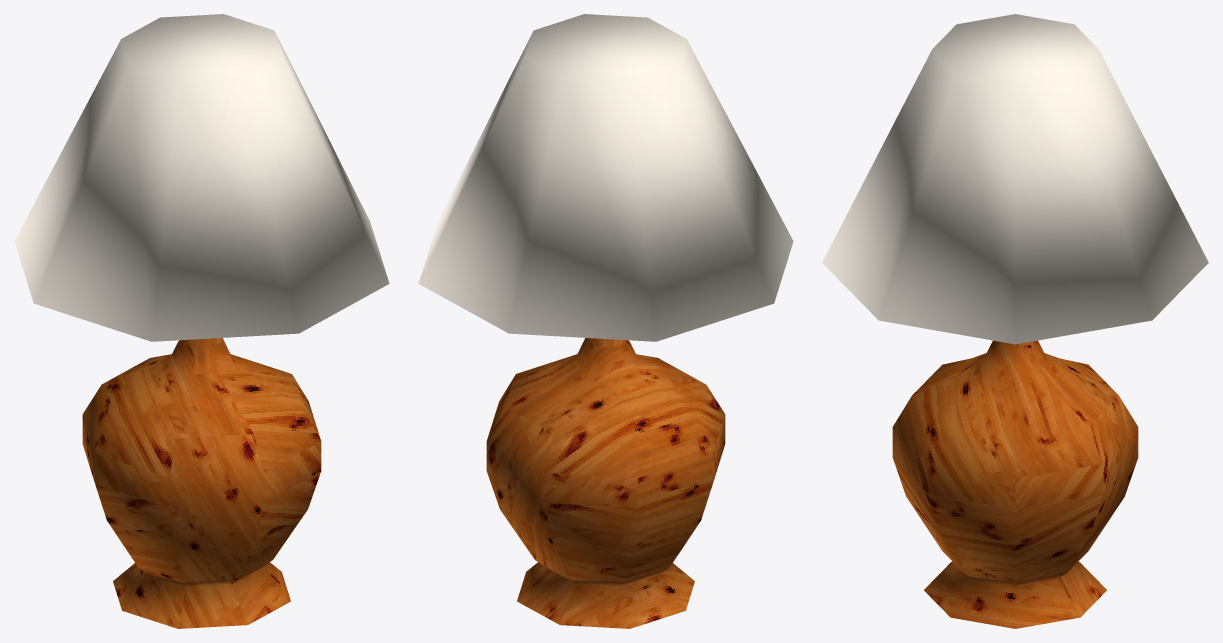
Rendered from house_lamp.glb.
The picture shows the model from 3 angles, left to right: view 1: azimuth 30°, elevation 25°; view 2: azimuth 150°, elevation 25°; view 3: azimuth 270°, elevation 25°; orthographic projection.
Parts seen in each view (by area): view 1: lamp; view 2: lamp; view 3: lamp.
Boxes of the visible parts, box(x1,y1,x2,y2) form: lamp: box(14, 14, 389, 628); lamp: box(418, 14, 793, 628); lamp: box(822, 14, 1208, 628).
Size of the model in its own units: 0.9164 by 1.41 by 0.9164.
2 materials, 2 textured.
